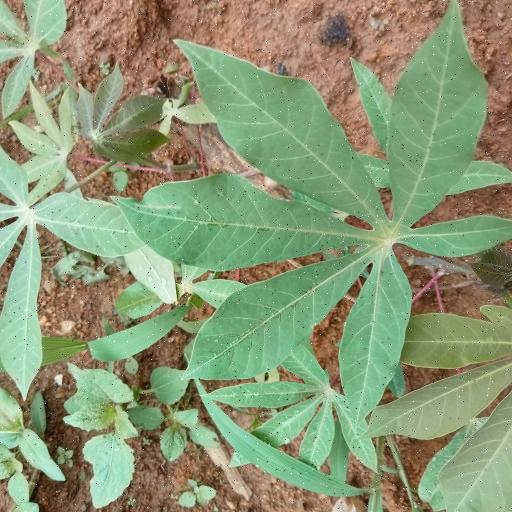Cassava_Mosaic: (160, 25, 492, 414)
